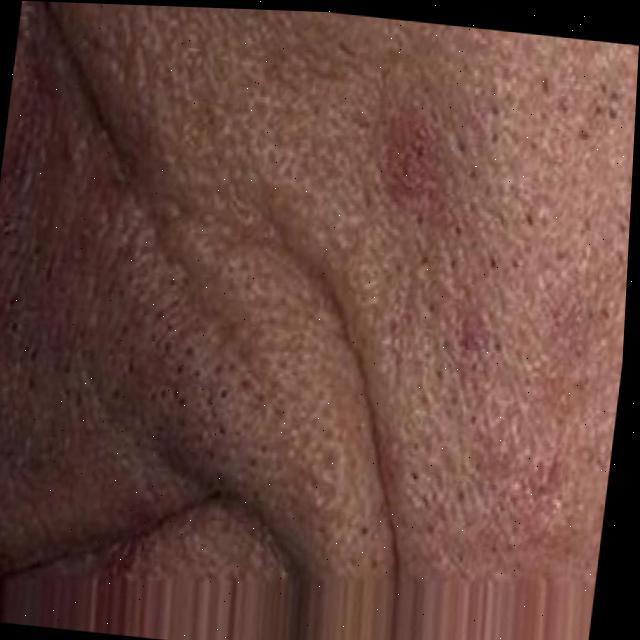Rosacea: (321, 95, 600, 489)
